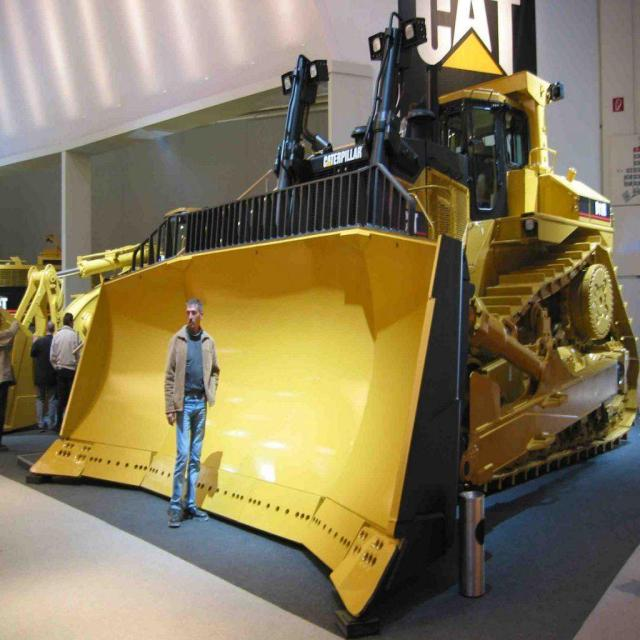buldozerpayloadergrader: (42, 38, 639, 622)
